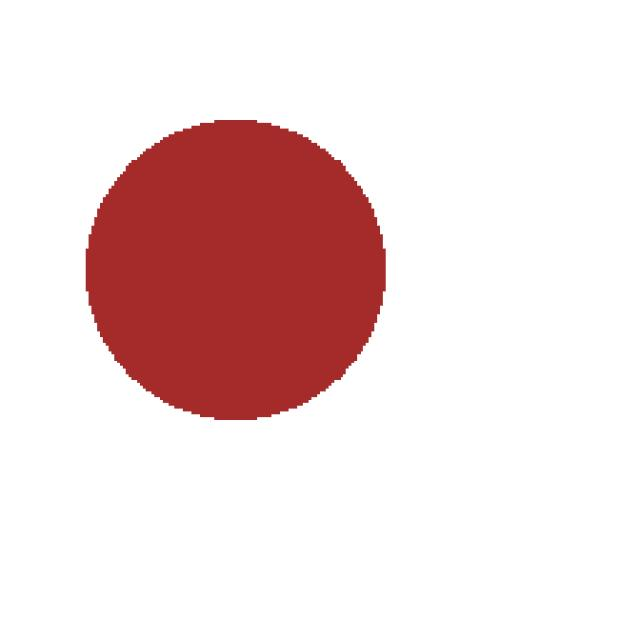Circle: (61, 83, 426, 428)
